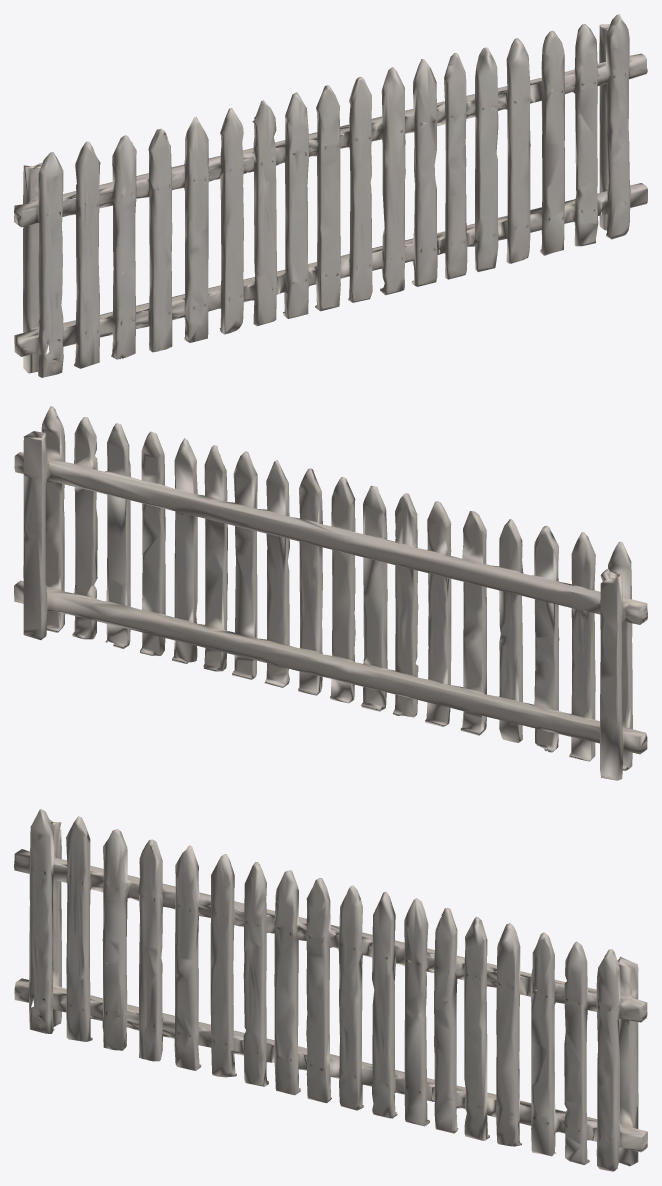
The model's file is white-wooden-fence.glb.
3 views of the same model, one above another, from view 1: azimuth 30°, elevation 25°; view 2: azimuth 150°, elevation 25°; view 3: azimuth 330°, elevation 25° (orthographic).
Visible parts, largest first — view 1: tripo_node_99d1bbf4-ea88-41f0-9c1f-69b54b324d5b; view 2: tripo_node_99d1bbf4-ea88-41f0-9c1f-69b54b324d5b; view 3: tripo_node_99d1bbf4-ea88-41f0-9c1f-69b54b324d5b.
Part boxes in pixels (x1=…): tripo_node_99d1bbf4-ea88-41f0-9c1f-69b54b324d5b: x1=14, y1=14, x2=647, y2=377; tripo_node_99d1bbf4-ea88-41f0-9c1f-69b54b324d5b: x1=14, y1=406, x2=647, y2=780; tripo_node_99d1bbf4-ea88-41f0-9c1f-69b54b324d5b: x1=14, y1=809, x2=647, y2=1171.
Bounding box in the file's own units: 0.9775 × 0.338 × 0.0526.
Materials: 1 (1 with a texture image).
